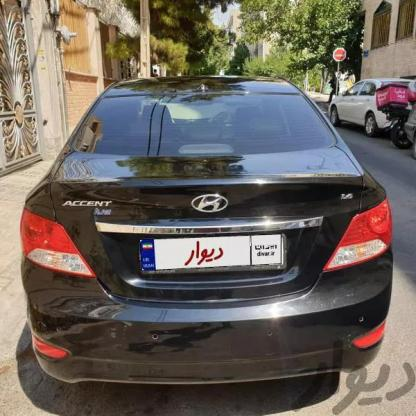Car: (18, 64, 388, 386), (308, 70, 416, 149)
